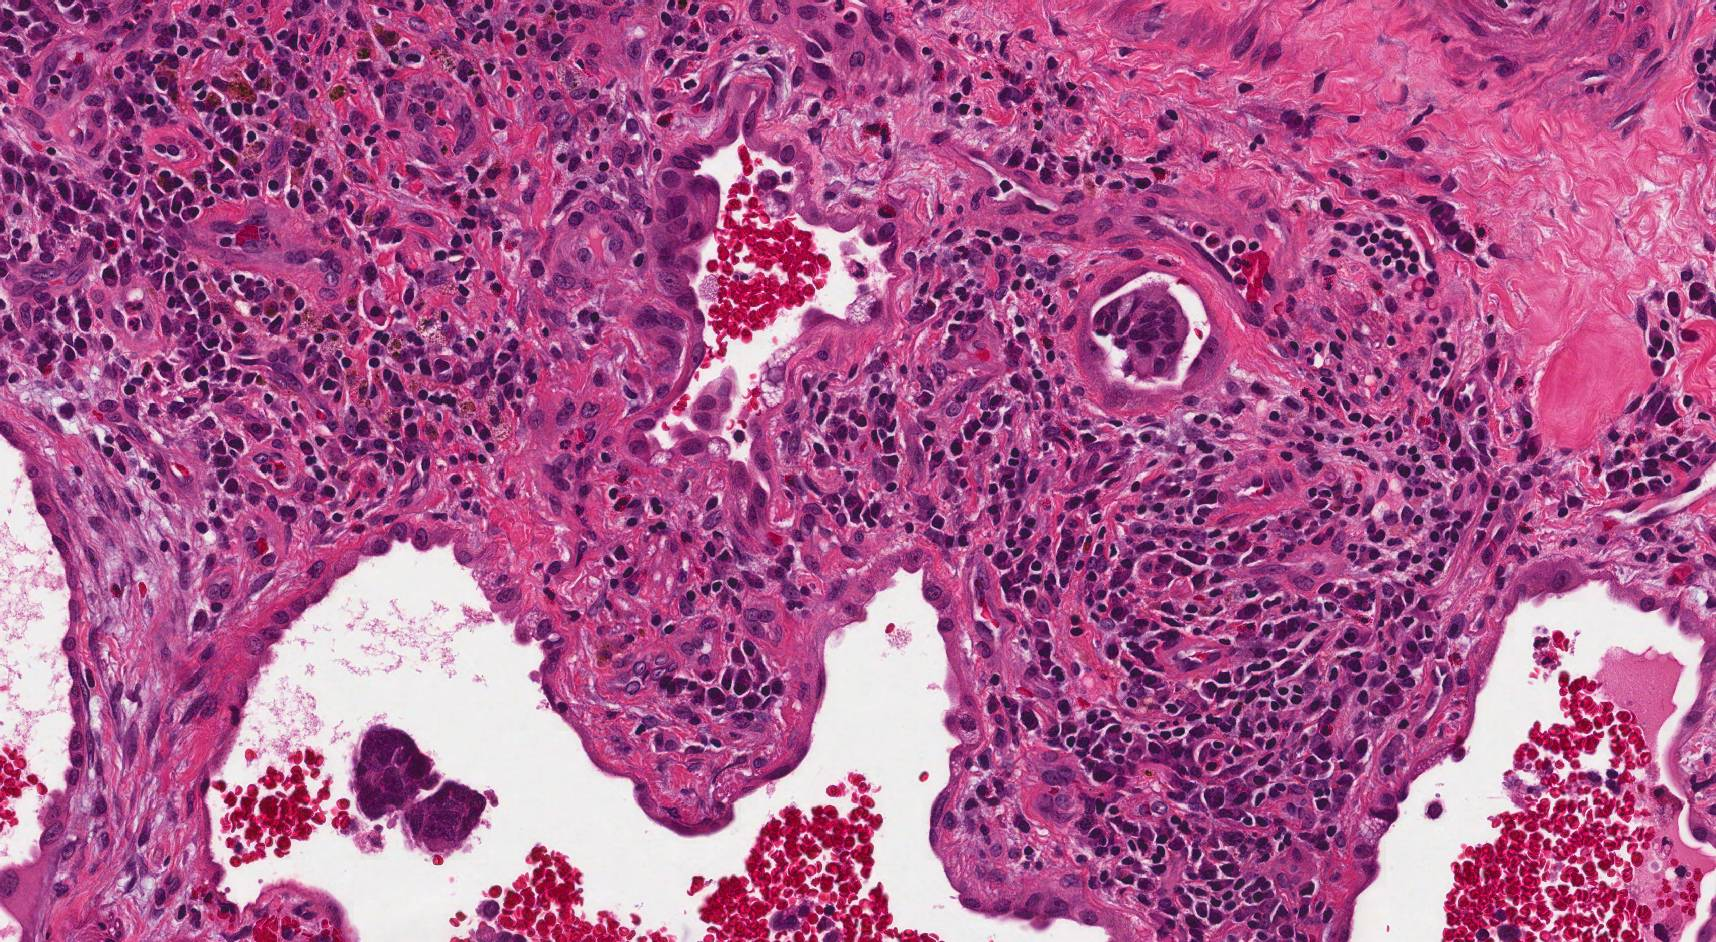stas: (351, 725, 487, 856), (1094, 284, 1190, 382)
